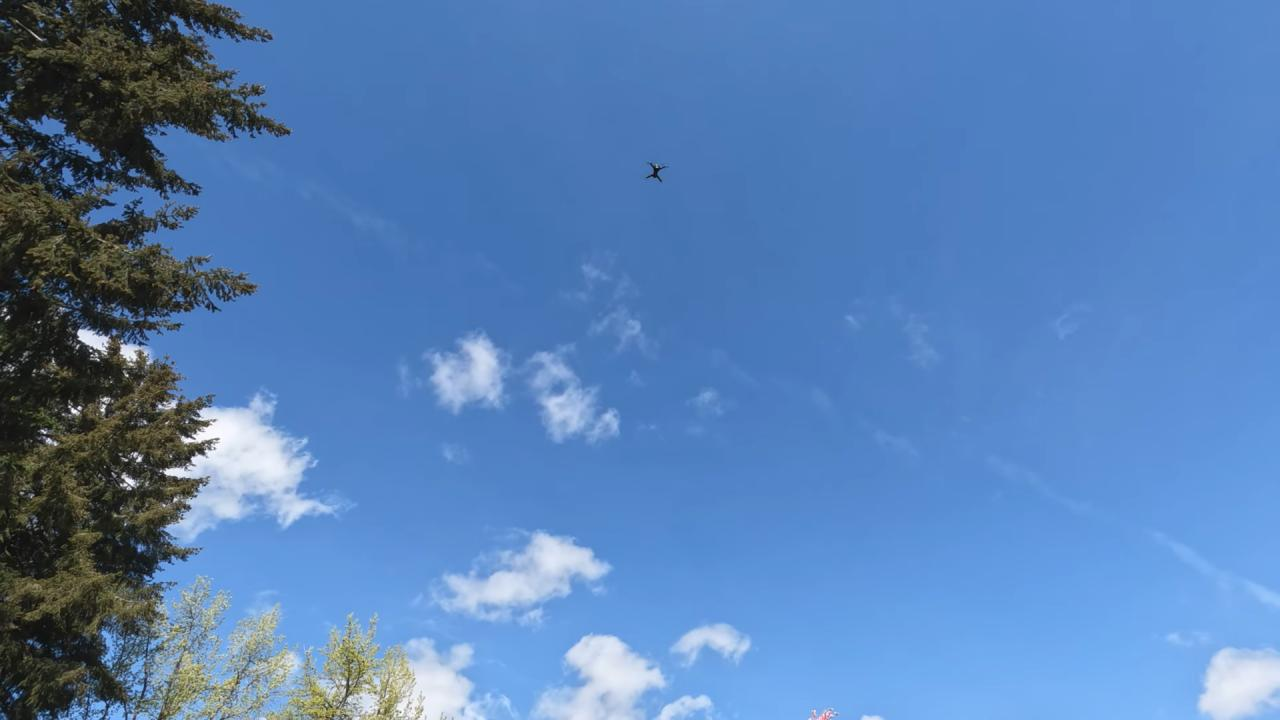Drone: (637, 154, 675, 190)
